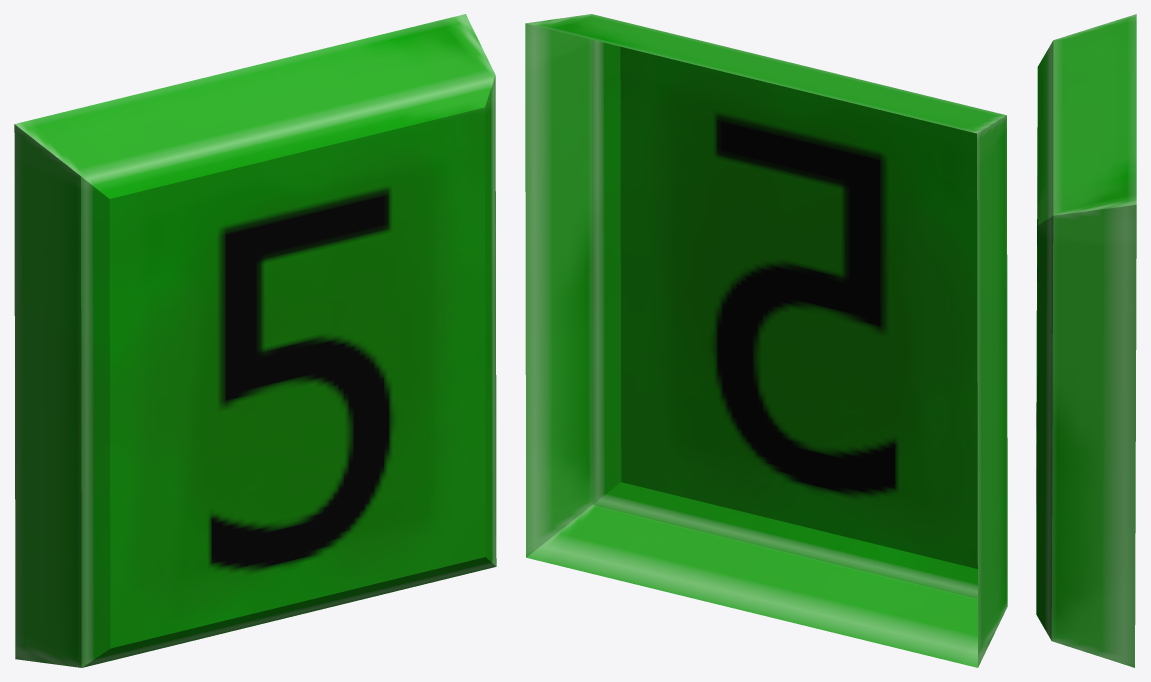
File: PadNumber_5.FBX
The picture shows the model from 3 angles, left to right: view 1: azimuth 30°, elevation 25°; view 2: azimuth 150°, elevation 25°; view 3: azimuth 270°, elevation 25°; orthographic projection. The views are drawn at different scales.
Visible parts, largest first — view 1: Pad_Number_5; view 2: Pad_Number_5; view 3: Pad_Number_5.
Boxes of the visible parts, x1=… form: Pad_Number_5: x1=14, y1=14, x2=496, y2=667; Pad_Number_5: x1=525, y1=14, x2=1007, y2=667; Pad_Number_5: x1=1036, y1=14, x2=1136, y2=667.
Bounding box in the file's own units: 5.5 × 6.22 × 1.22.
1 material, 1 textured.
